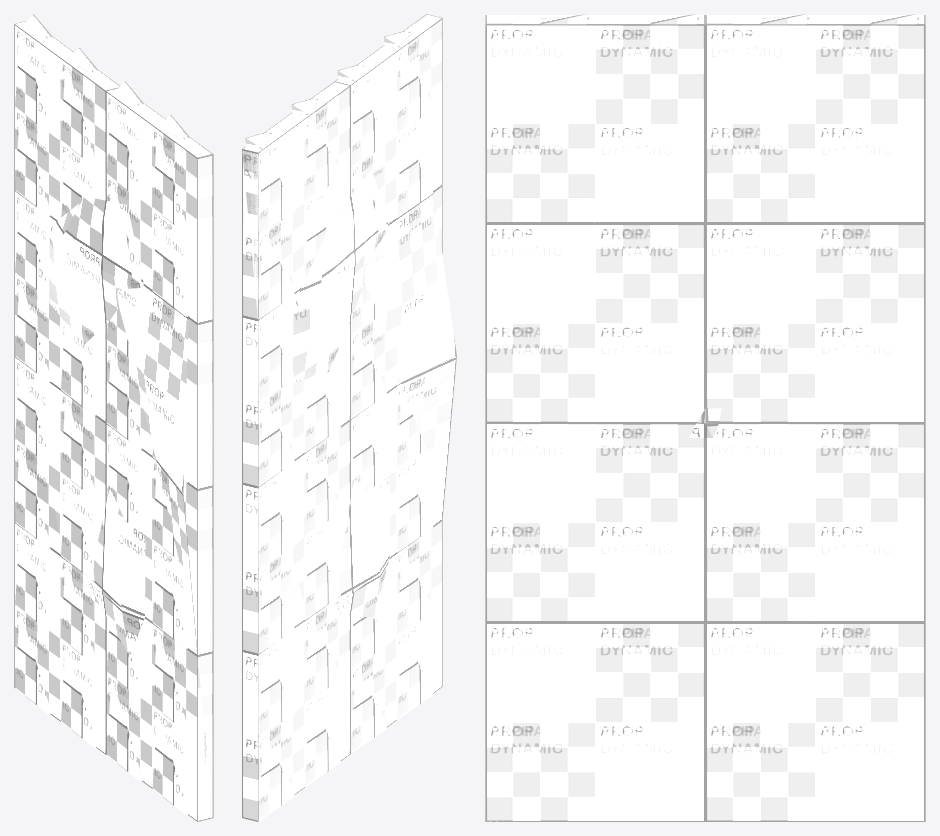
Rendered from Breakable_Glass.fbx.
3 renders of one model, left to right at view 1: azimuth 30°, elevation 25°; view 2: azimuth 150°, elevation 25°; view 3: azimuth 270°, elevation 25°, orthographic. The views are drawn at different scales.
Visible parts, largest first — view 1: Glass_Damaged, Glass_Whole, Glass_Shards2_0__31_, Glass_Shards2_0__27_, Glass_Shards2_0__30_, Glass_Shards2_0__26_, Glass_Shards2_0__5_, Glass_Shards2_0__7_, Glass_Shards2_0__13_, Glass_Shards2_0__15_, Glass_Shards2_0__21_, Glass_Shards2_0__29_ (+18 smaller); view 2: Glass_Damaged, Glass_Whole, Glass_Shards2_0__31_, Glass_Shards2_0__30_, Glass_Shards2_0__26_, Glass_Shards2_0__27_, Glass_Shards2_0, Glass_Shards2_0__1_, Glass_Shards2_0__2_, Glass_Shards2_0__8_, Glass_Shards2_0__24_, Glass_Shards2_0__5_ (+17 smaller); view 3: Glass_Whole.
Boxes of the visible parts, bbox=[...] form: Glass_Damaged: bbox=[15, 37, 206, 821]; Glass_Whole: bbox=[14, 21, 213, 821]; Glass_Shards2_0__31_: bbox=[15, 14, 52, 133]; Glass_Shards2_0__27_: bbox=[106, 81, 143, 200]; Glass_Shards2_0__30_: bbox=[61, 47, 97, 166]; Glass_Shards2_0__26_: bbox=[152, 115, 189, 233]; Glass_Shards2_0__5_: bbox=[15, 610, 50, 714]; Glass_Shards2_0__7_: bbox=[15, 527, 50, 631]; Glass_Shards2_0__13_: bbox=[15, 444, 50, 548]; Glass_Shards2_0__15_: bbox=[15, 361, 50, 465]; Glass_Shards2_0__21_: bbox=[15, 278, 50, 382]; Glass_Shards2_0__29_: bbox=[15, 112, 50, 216]; Glass_Damaged: bbox=[242, 18, 456, 806]; Glass_Whole: bbox=[242, 14, 442, 821]; Glass_Shards2_0__31_: bbox=[245, 132, 294, 235]; Glass_Shards2_0__30_: bbox=[291, 98, 340, 201]; Glass_Shards2_0__26_: bbox=[383, 31, 433, 134]; Glass_Shards2_0__27_: bbox=[337, 65, 387, 168]; Glass_Shards2_0: bbox=[397, 634, 433, 719]; Glass_Shards2_0__1_: bbox=[351, 667, 387, 753]; Glass_Shards2_0__2_: bbox=[397, 550, 433, 636]; Glass_Shards2_0__8_: bbox=[397, 466, 433, 552]; Glass_Shards2_0__24_: bbox=[397, 132, 433, 217]; Glass_Shards2_0__5_: bbox=[258, 735, 294, 820]; Glass_Whole: bbox=[485, 15, 925, 821].
Size of the model in its own units: 19.83 by 405 by 200.
